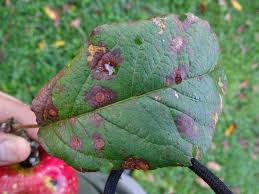unhealthy: (34, 15, 236, 169)
